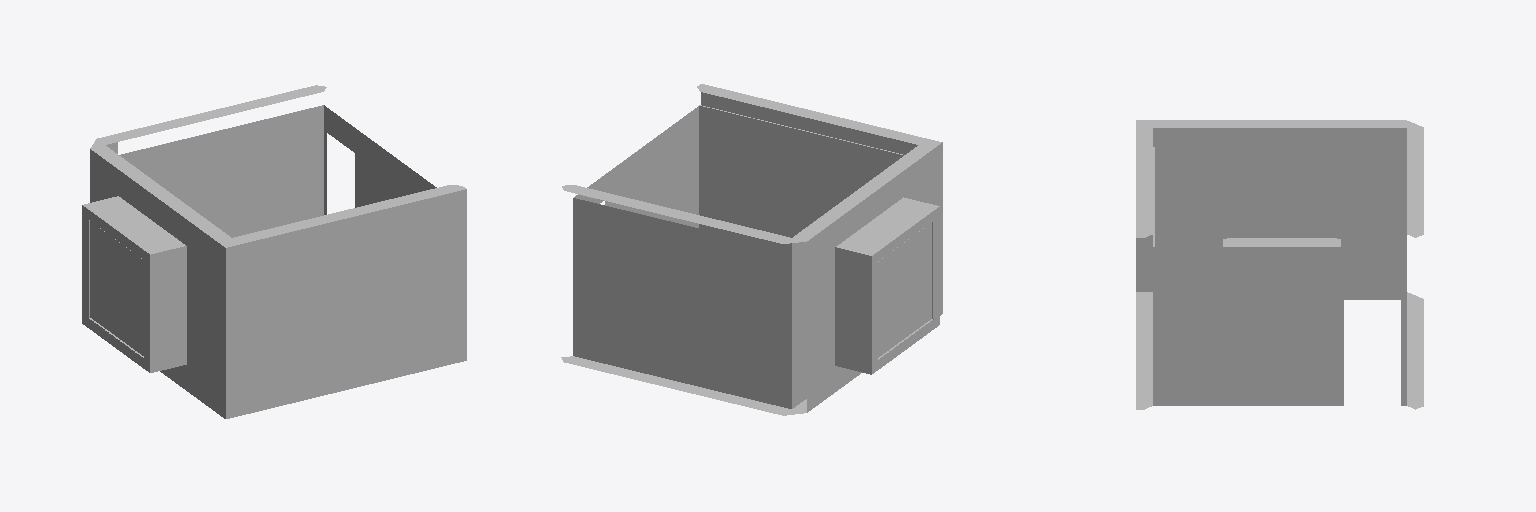
The model's file is SecondBedroom-3805w.obj.
3 renders of one model, left to right at view 1: azimuth 30°, elevation 25°; view 2: azimuth 150°, elevation 25°; view 3: azimuth 270°, elevation 25°, orthographic.
Size of the model in its own units: 4.4 by 2.6 by 3.96.